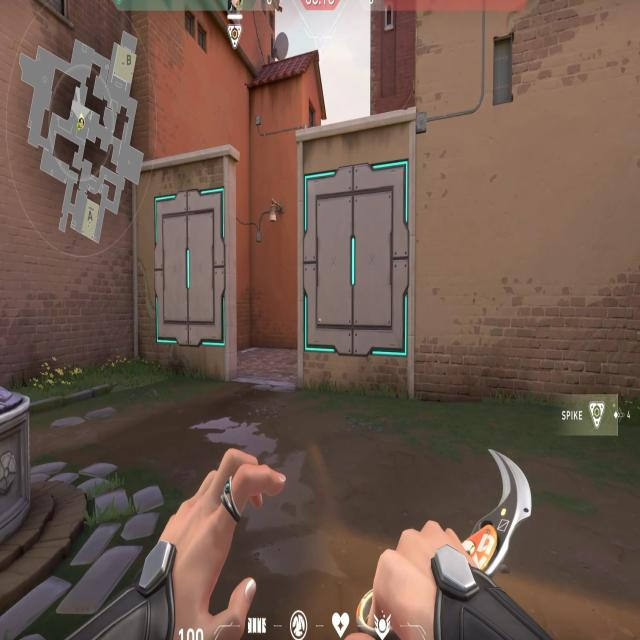Mid_Wall: (295, 128, 421, 390), (127, 149, 237, 382)
